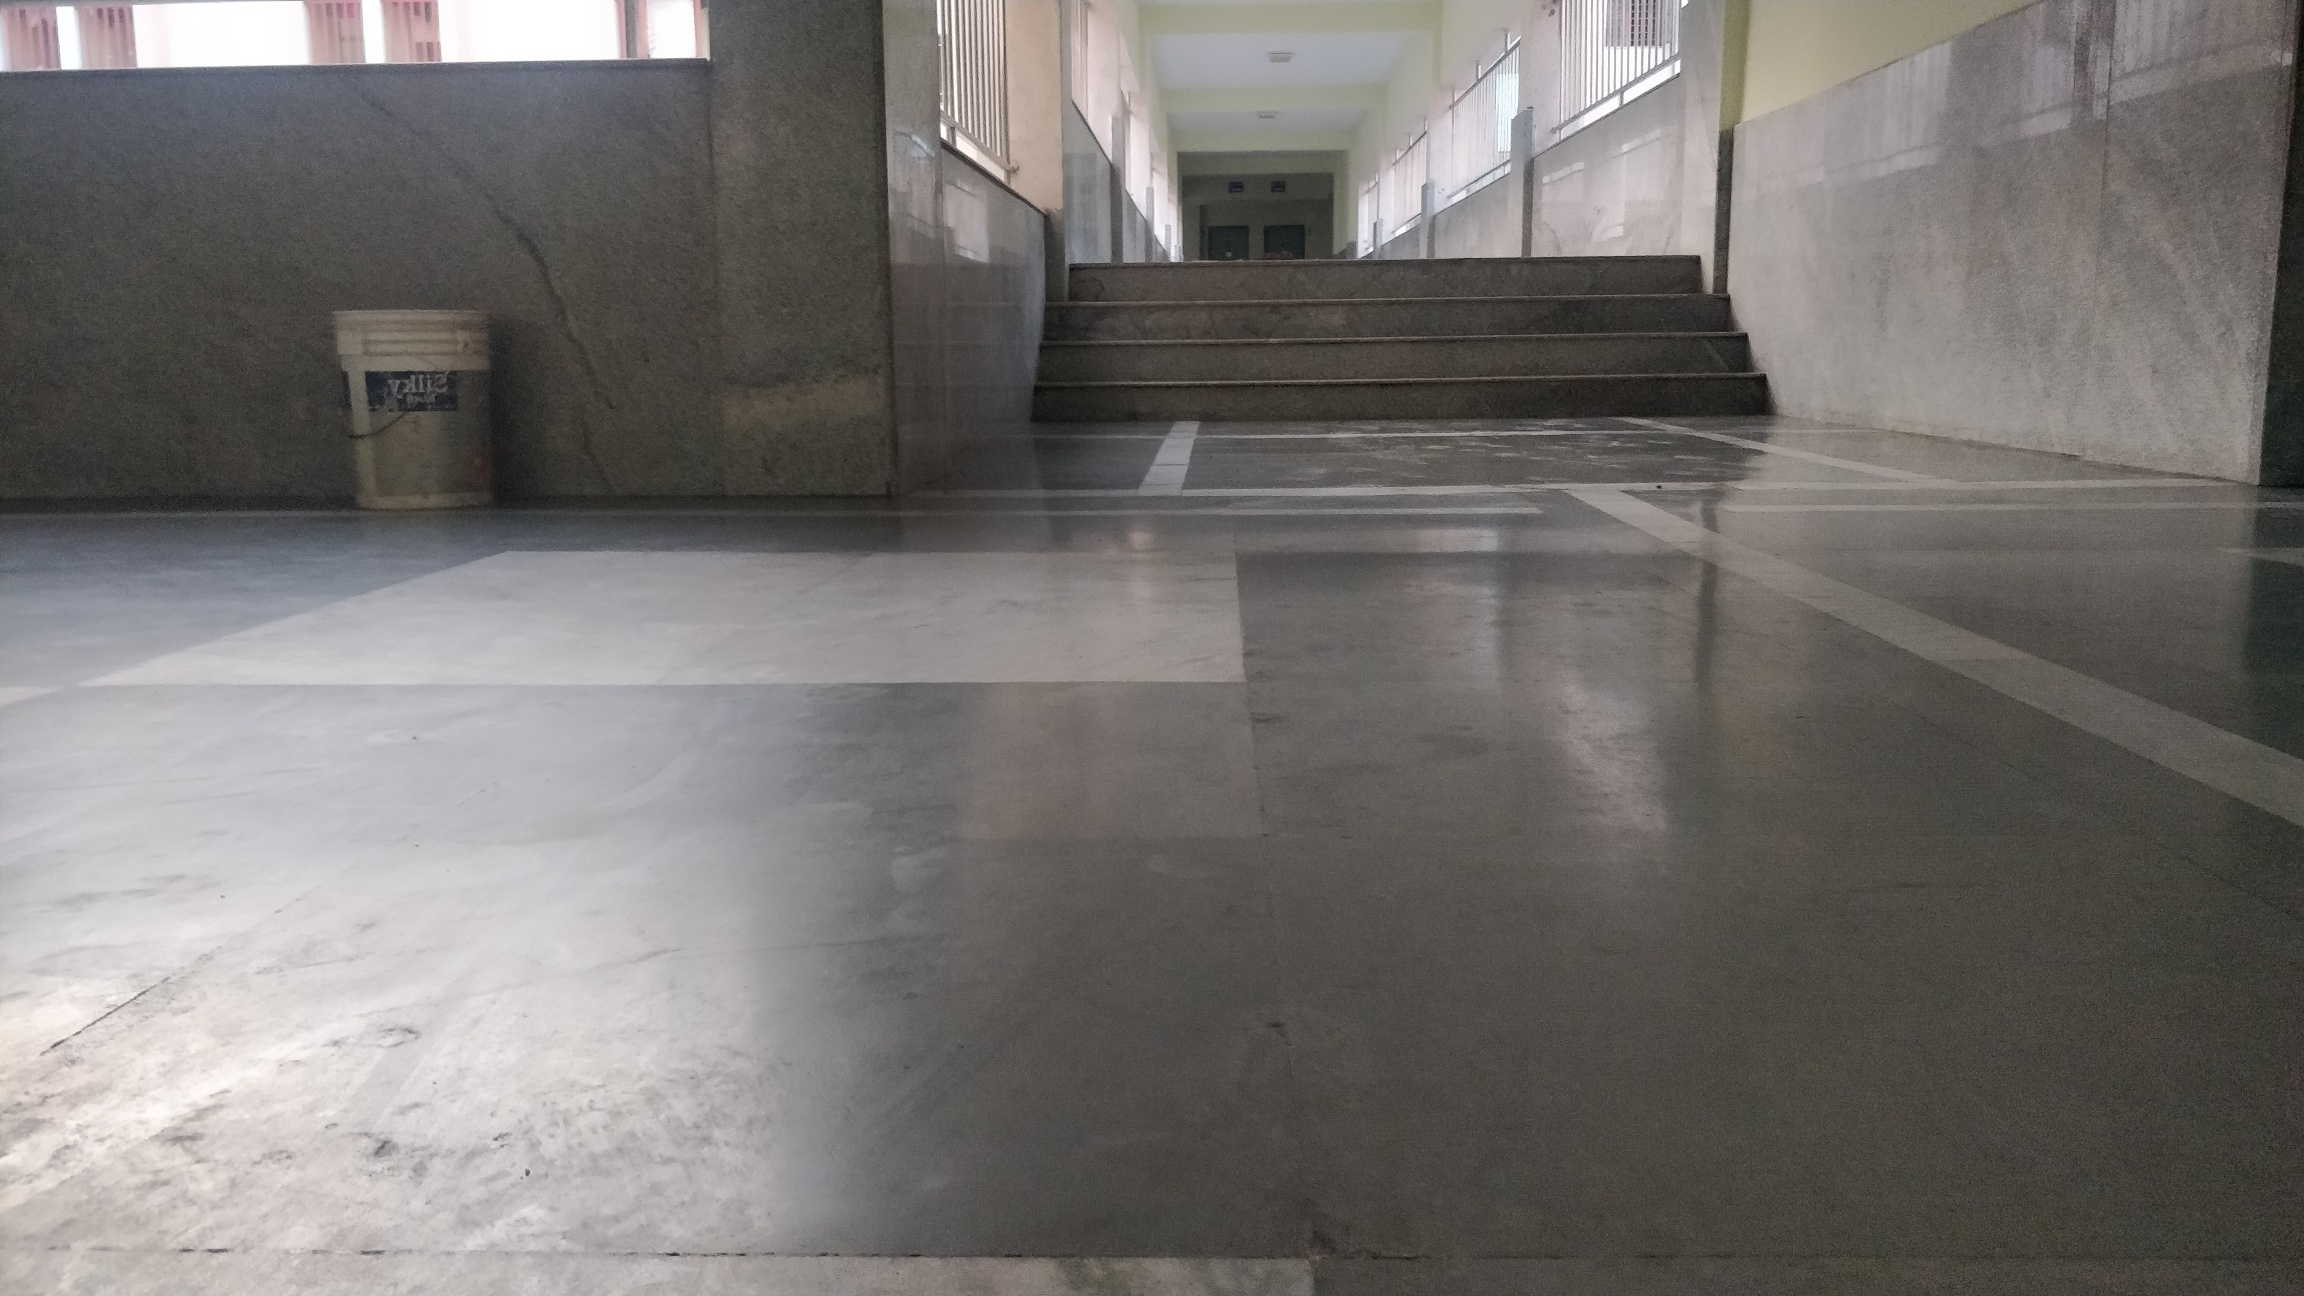stairs_up: (1036, 256, 1761, 415)
